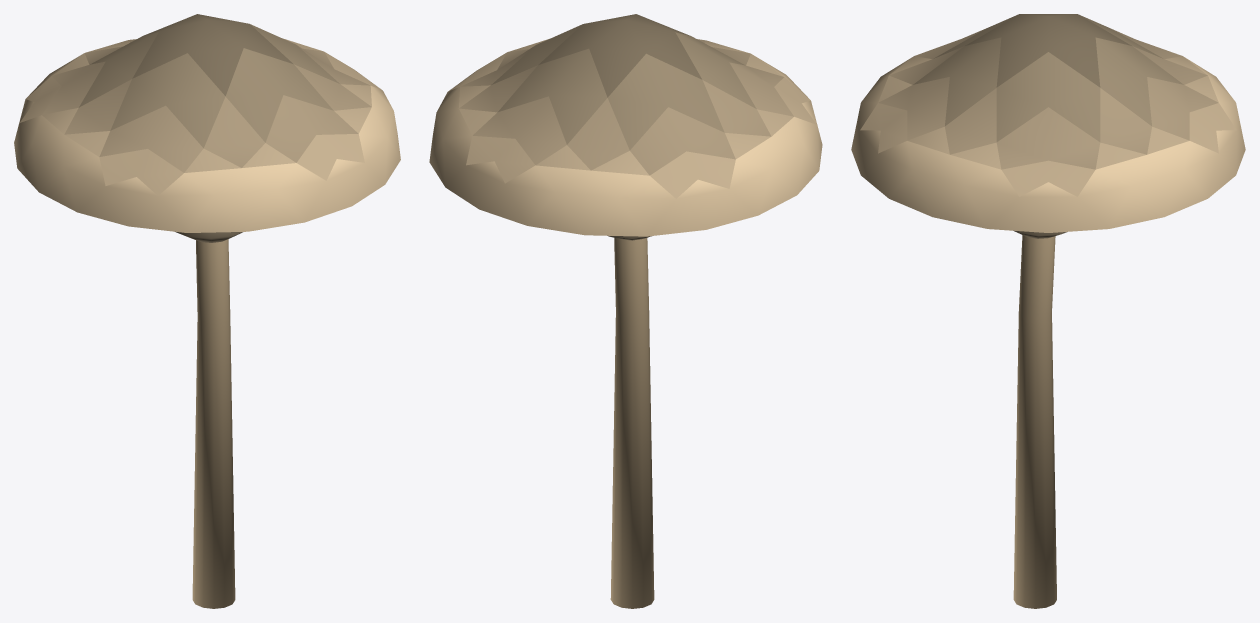
The model's file is Macrolepiota_big.fbx.
The picture shows the model from 3 angles, left to right: view 1: azimuth 30°, elevation 25°; view 2: azimuth 150°, elevation 25°; view 3: azimuth 270°, elevation 25°; orthographic projection.
Parts seen in each view (by area): view 1: Macrolepiota_big; view 2: Macrolepiota_big; view 3: Macrolepiota_big.
Boxes of the visible parts, left/top/right/bottom form: Macrolepiota_big: left=14, top=14, right=400, bottom=608; Macrolepiota_big: left=429, top=14, right=822, bottom=608; Macrolepiota_big: left=851, top=14, right=1245, bottom=608.
Size of the model in its own units: 19.62 by 32 by 19.62.
